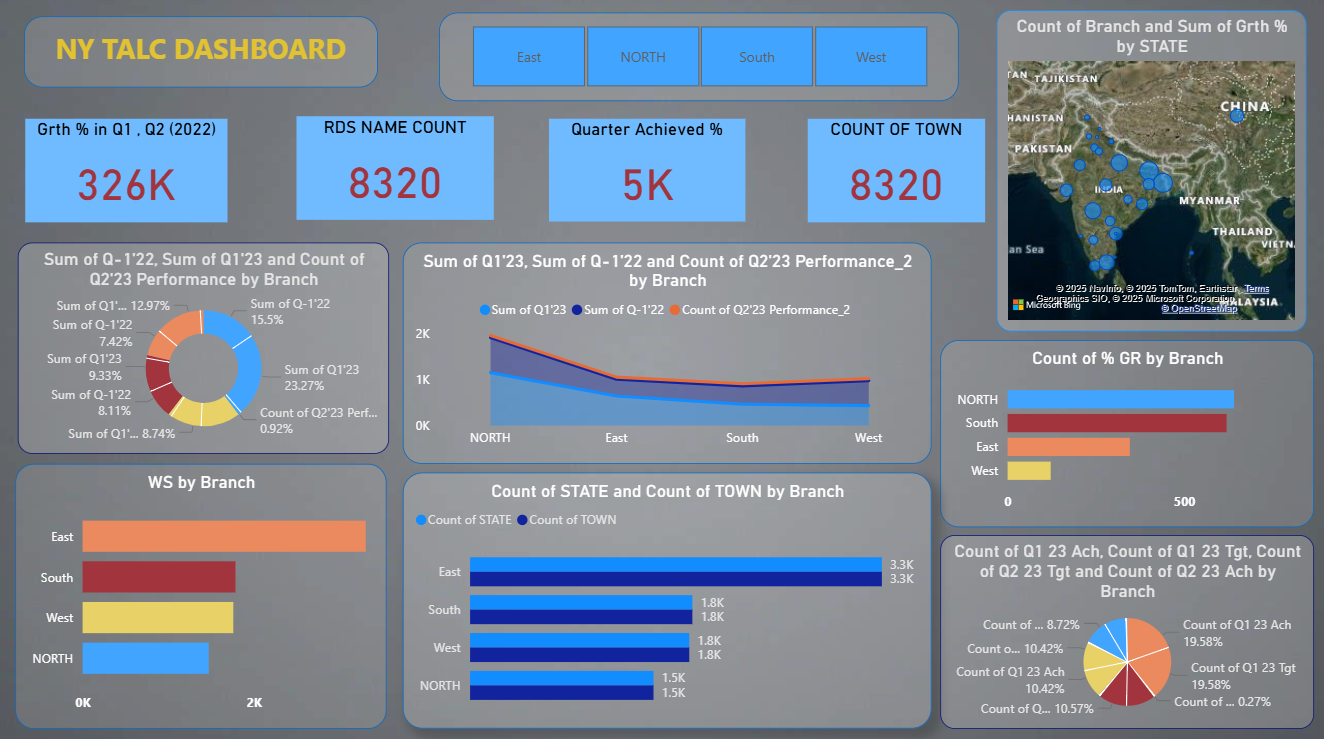

The page's visual inventory and layout, read from the dashboard file:
{"tool":"powerbi","page":{"name":"NY TALC","canvas":[1280,720],"ordinal":1},"visuals":[{"type":"slicer","fields":{"Values":["NY Talc.Branch"]},"box":[424.7,16.9,501.9,85.7],"z":0},{"type":"textbox","box":[24.1,20.5,341.4,68.8],"z":1000},{"type":"map","fields":{"Category":["NY Talc.STATE"],"Size":["CountNonNull(NY Talc.Branch)"]},"box":[962.7,14.5,299.2,310.1],"z":2000},{"type":"clusteredBarChart","fields":{"Y":["Count(NY Talc.% GR)"],"Category":["NY Talc.Branch"]},"box":[908.4,333,360.7,181],"z":3000},{"type":"clusteredBarChart","fields":{"Y":["CountNonNull(NY Talc.STATE)","CountNonNull(NY Talc.TOWN)"],"Category":["NY Talc.Branch"]},"box":[389.7,460.9,510.3,247.3],"z":4000},{"type":"clusteredBarChart","title":"WS  by Branch","fields":{"Y":["CountNonNull(NY Talc.WS NAME)"],"Category":["NY Talc.Branch"]},"box":[15.7,452.4,358.3,255.8],"z":5000},{"type":"stackedAreaChart","fields":{"Y":["Sum(NY Talc.Q1'23)","Sum(NY Talc.Q-1'22)","CountNonNull(Q2'23 Summary (2).Q2'23 Performance_2)"],"Category":["NY Talc.Branch"]},"box":[389.7,238.9,510.3,213.5],"z":6000},{"type":"donutChart","fields":{"Y":["Sum(NY Talc.Q-1'22)","Sum(NY Talc.Q1'23)","CountNonNull(Q2'23 Summary (2).Q2'23 Performance)"],"Category":["NY Talc.Branch"]},"box":[18.1,238.9,358.3,203.9],"z":7000},{"type":"pieChart","fields":{"Y":["CountNonNull(NY Talc.Q1 23 Ach)","CountNonNull(NY Talc.Q1 23 Tgt)","CountNonNull(Q2'23 Summary (2).Column23)","CountNonNull(Q2'23 Summary (2).Column24)"],"Category":["NY Talc.Branch"]},"box":[908.4,521.2,360.7,187],"z":8000},{"type":"card","title":"Grth % in Q1 , Q2 (2022)","fields":{"Values":["Sum(NY Talc.Grth %)"]},"box":[25.3,119.4,195.4,100.1],"z":9000},{"type":"card","title":"RDS NAME COUNT","fields":{"Values":["CountNonNull(NY Talc.RDS Name)"]},"box":[287.1,117,190.6,100.1],"z":10000},{"type":"card","title":"Quarter Achieved %","fields":{"Values":["Sum(NY Talc.Qtr Ach %)"]},"box":[530.8,119.4,189.4,98.9],"z":11000},{"type":"card","title":"COUNT OF TOWN","fields":{"Values":["CountNonNull(NY Talc.TOWN)"]},"box":[780.6,119.4,171.3,100.1],"z":12000}]}

Visuals, with their boxes in screenshot pixels (x1, y1, x2, y2), scaled from the page's 1280x720 canvas onto the 1324x739 screenshot:
slicer - NY Talc.Branch: {"left": 439, "top": 17, "right": 958, "bottom": 105}
textbox: {"left": 25, "top": 21, "right": 378, "bottom": 92}
map - NY Talc.STATE x CountNonNull(NY Talc.Branch): {"left": 996, "top": 15, "right": 1305, "bottom": 333}
clusteredBarChart - Count(NY Talc.% GR) x NY Talc.Branch: {"left": 940, "top": 342, "right": 1313, "bottom": 528}
clusteredBarChart - CountNonNull(NY Talc.STATE) x CountNonNull(NY Talc.TOWN): {"left": 403, "top": 473, "right": 931, "bottom": 727}
"WS  by Branch" clusteredBarChart: {"left": 16, "top": 464, "right": 387, "bottom": 727}
stackedAreaChart - Sum(NY Talc.Q1'23) x Sum(NY Talc.Q-1'22): {"left": 403, "top": 245, "right": 931, "bottom": 464}
donutChart - Sum(NY Talc.Q-1'22) x Sum(NY Talc.Q1'23): {"left": 19, "top": 245, "right": 389, "bottom": 454}
pieChart - CountNonNull(NY Talc.Q1 23 Ach) x CountNonNull(NY Talc.Q1 23 Tgt): {"left": 940, "top": 535, "right": 1313, "bottom": 727}
"Grth % in Q1 , Q2 (2022)" card: {"left": 26, "top": 123, "right": 228, "bottom": 225}
"RDS NAME COUNT" card: {"left": 297, "top": 120, "right": 494, "bottom": 223}
"Quarter Achieved %" card: {"left": 549, "top": 123, "right": 745, "bottom": 224}
"COUNT OF TOWN" card: {"left": 807, "top": 123, "right": 985, "bottom": 225}
